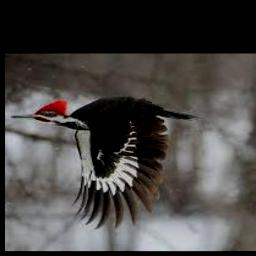Woodpecker: (10, 97, 197, 227)
